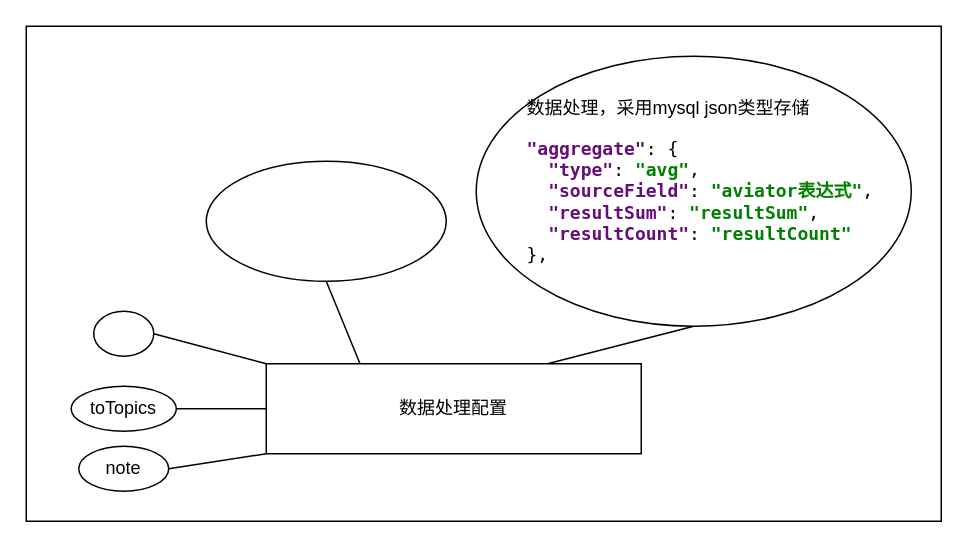
The diagram is 968 pixels wide and 548 high, and some of its shapes have lost their labels. The centre of each missing label's shape, as x and y in pixels:
"id" belongs at [123,333].
"业务相关配置： 1.bizType 2.targetType 3.eventType" belongs at [325,220].
